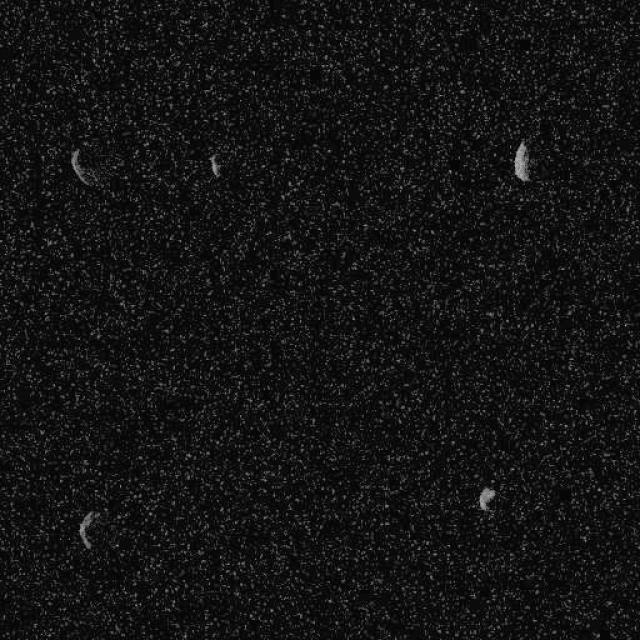D2: (69, 146, 100, 188), (78, 509, 100, 550), (512, 138, 530, 182), (476, 485, 496, 511), (208, 152, 222, 178)
